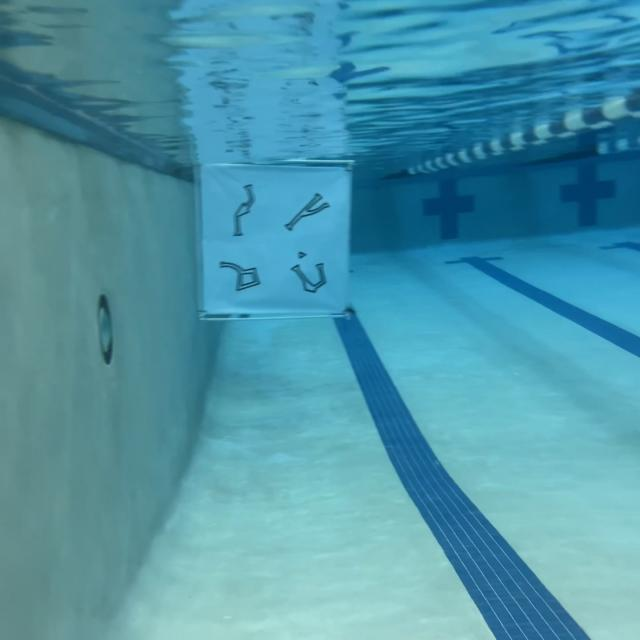abydos: (285, 192, 330, 232), (231, 183, 257, 237)
buoy: (198, 167, 348, 317)
earth: (290, 251, 328, 294), (218, 260, 262, 292)
